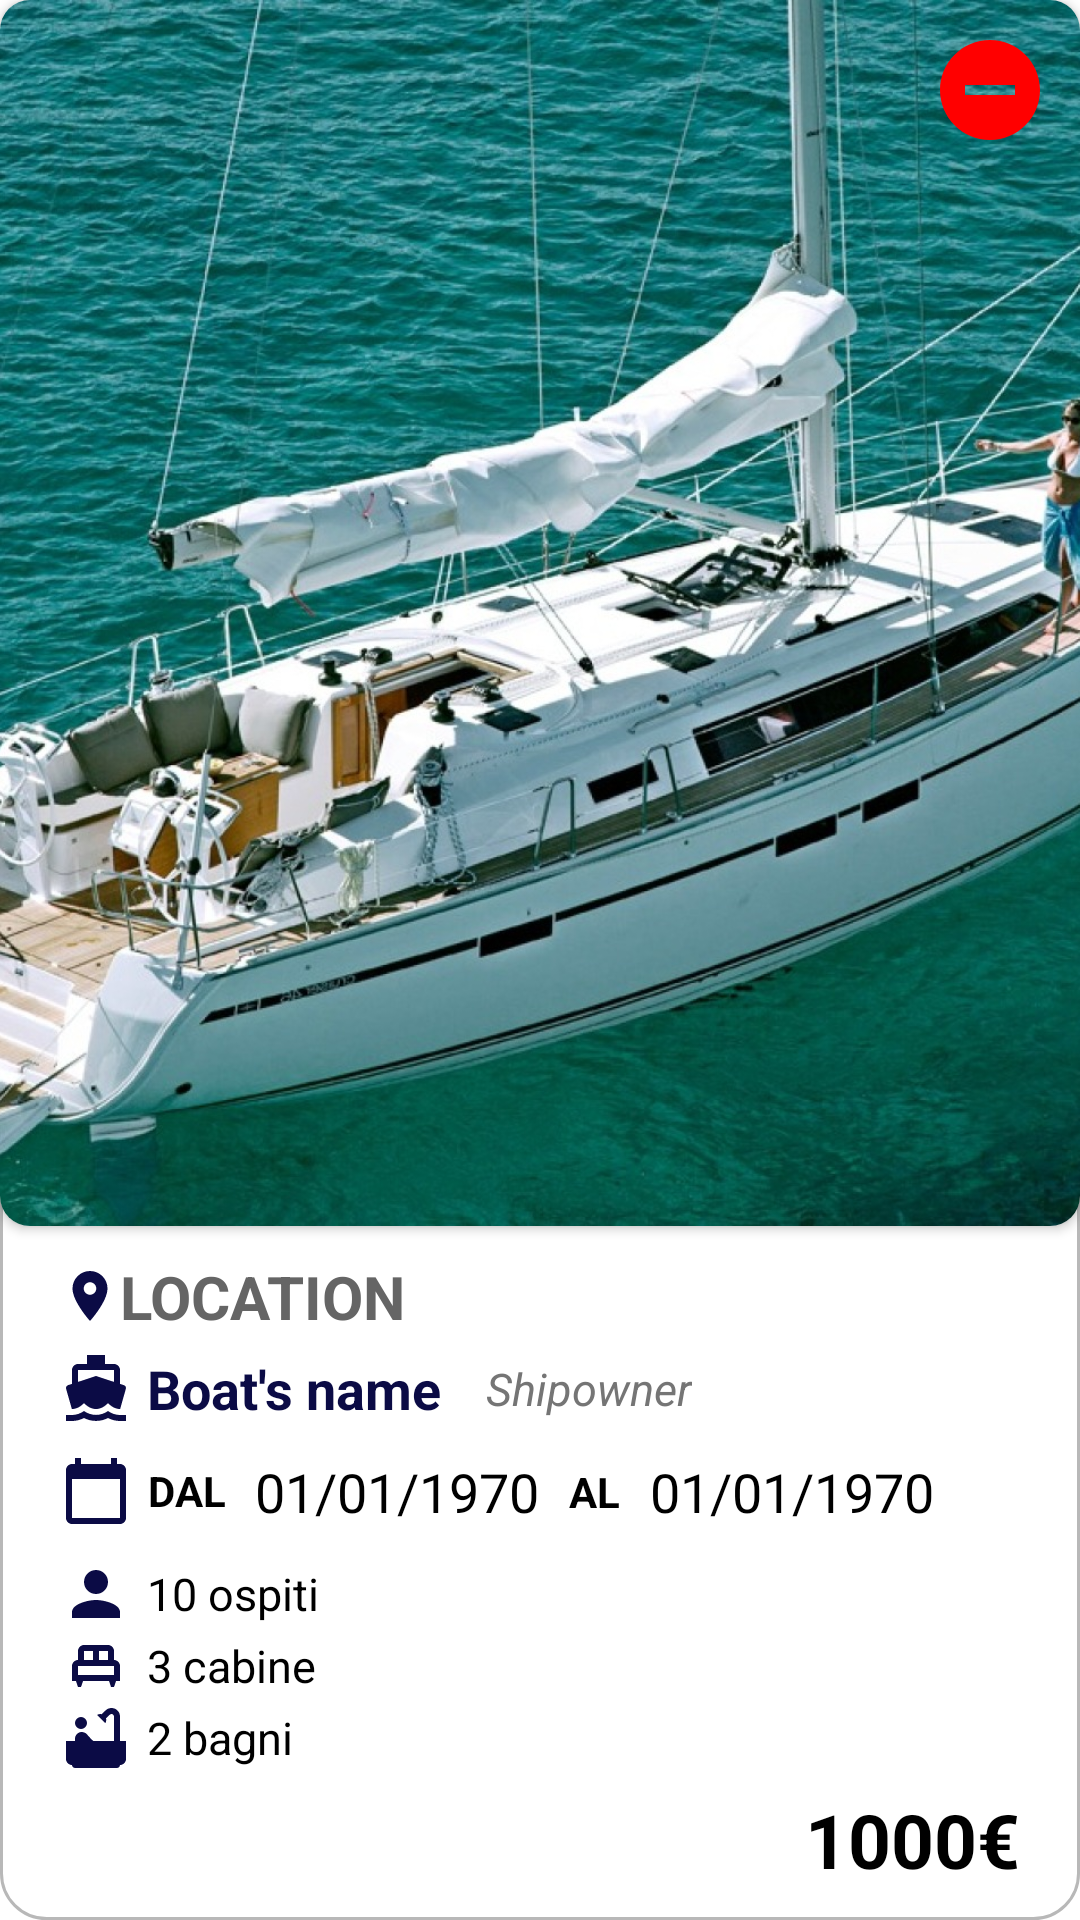

Locate icon controls on the screen. Image size 1080*1920, boxes as region(x1, y1, x2, y2).
remove: region(930, 30, 1050, 150)
